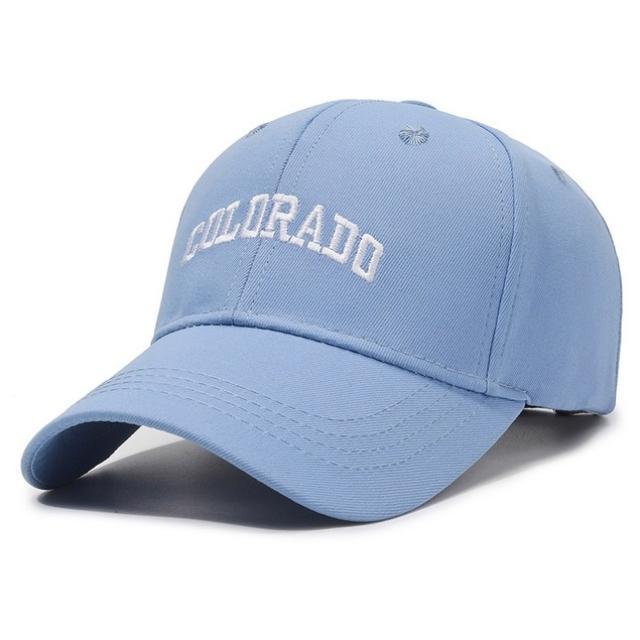Nonhelmet: (19, 95, 624, 525)
